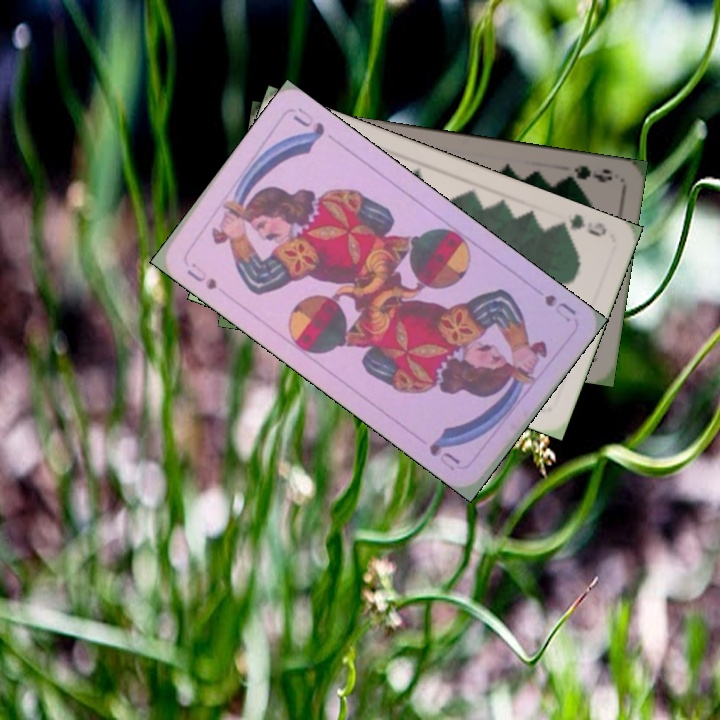G9: (552, 209, 610, 240), (559, 161, 615, 185)
SU: (540, 290, 579, 324), (183, 258, 220, 293)
